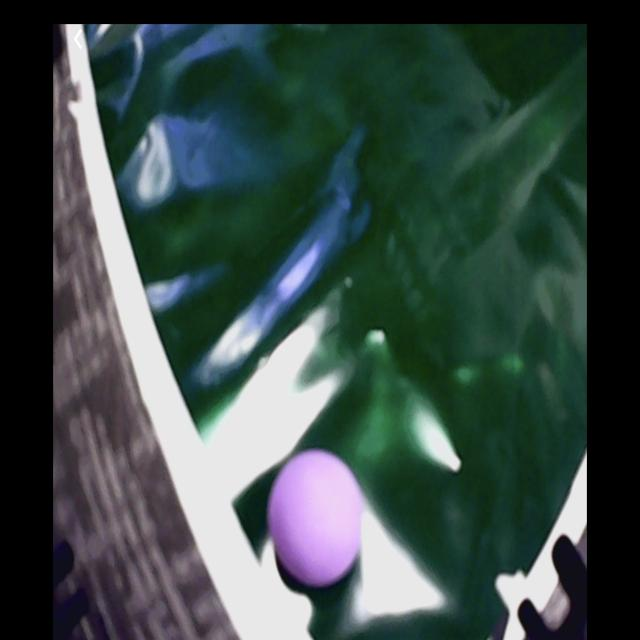ball: (271, 452, 365, 582)
